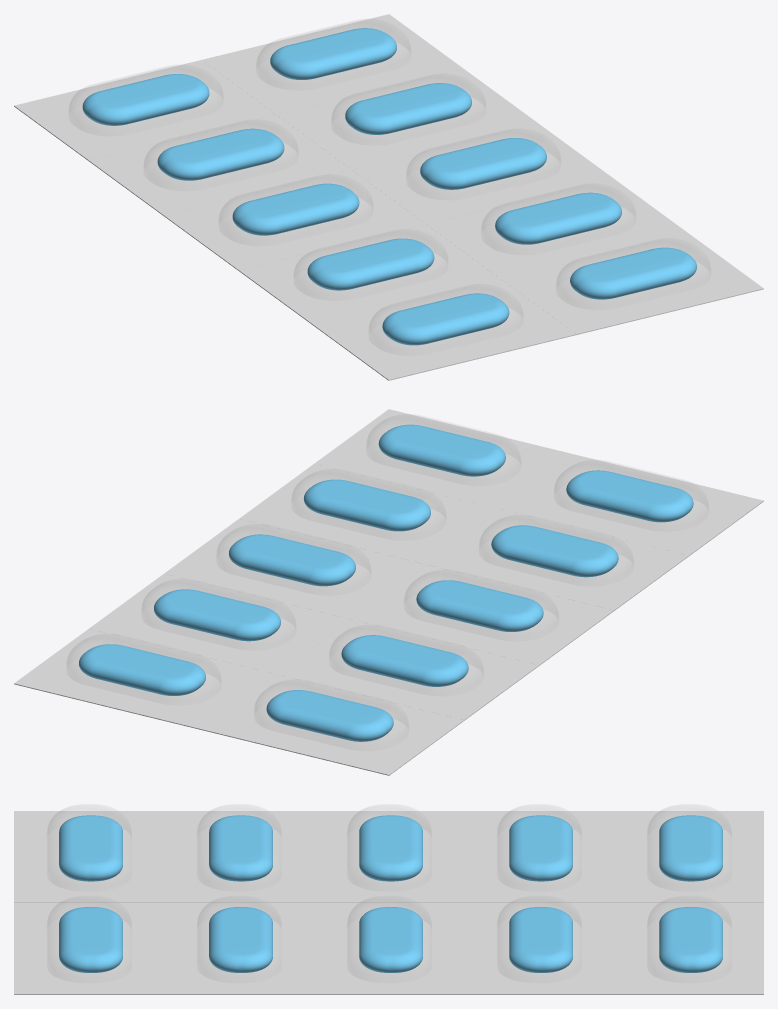
Rendered from Capsule_Pill_2x5_Blue.glb.
3 renders of one model, top to bottom at view 1: azimuth 30°, elevation 25°; view 2: azimuth 150°, elevation 25°; view 3: azimuth 270°, elevation 25°, orthographic.
Visible parts, largest first — view 1: Capsule_Pill_Base_2x5, Capsule_Pill_2x5, Capsule_Pill_Lid_2x5, Capsule_Pill_Shell_2x5; view 2: Capsule_Pill_Base_2x5, Capsule_Pill_2x5, Capsule_Pill_Lid_2x5, Capsule_Pill_Shell_2x5; view 3: Capsule_Pill_Base_2x5, Capsule_Pill_2x5, Capsule_Pill_Lid_2x5, Capsule_Pill_Shell_2x5.
Part boxes in pixels (left/top/right/bottom): Capsule_Pill_Base_2x5: left=14, top=14, right=763, bottom=380; Capsule_Pill_2x5: left=82, top=28, right=696, bottom=345; Capsule_Pill_Lid_2x5: left=68, top=42, right=711, bottom=355; Capsule_Pill_Shell_2x5: left=69, top=19, right=710, bottom=333; Capsule_Pill_Base_2x5: left=14, top=409, right=763, bottom=775; Capsule_Pill_2x5: left=79, top=424, right=693, bottom=741; Capsule_Pill_Lid_2x5: left=66, top=437, right=708, bottom=751; Capsule_Pill_Shell_2x5: left=67, top=414, right=708, bottom=729; Capsule_Pill_Base_2x5: left=14, top=811, right=763, bottom=994; Capsule_Pill_2x5: left=59, top=815, right=722, bottom=972; Capsule_Pill_Lid_2x5: left=46, top=826, right=731, bottom=983; Capsule_Pill_Shell_2x5: left=47, top=804, right=731, bottom=928.
Size of the model in its own units: 6.8 by 0.4666 by 11.77.
